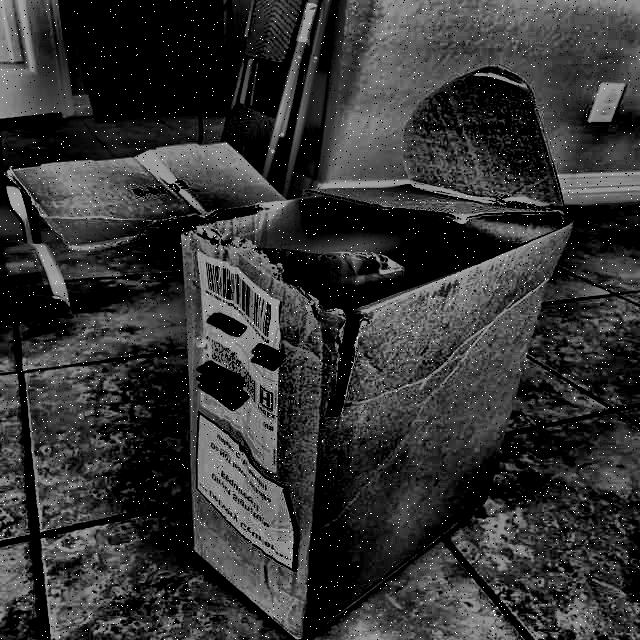box: (142, 62, 604, 613)
hole: (322, 313, 370, 418)
